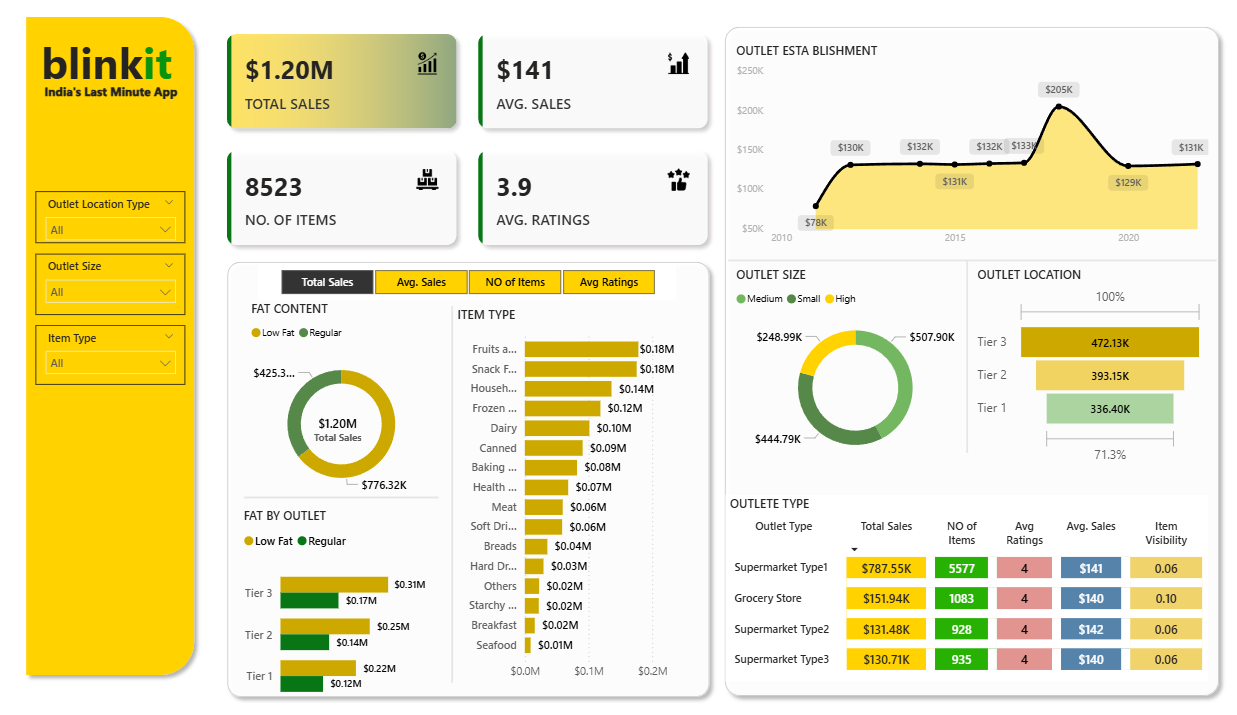

The dashboard page shown, as its layout file describes it:
{"tool":"powerbi","page":{"name":"Page 1","canvas":[1400,800],"ordinal":0},"visuals":[{"type":"shape","box":[22.8,14.7,205,749.3],"z":0},{"type":"textbox","box":[276.1,721.2,203.8,42.9],"z":1000},{"type":"textbox","box":[42.9,36.2,164.9,76.4],"z":2000},{"type":"textbox","box":[42.9,92.5,164.9,38.9],"z":3000},{"type":"cardVisual","fields":{"Data":["BlinkIT Grocery Data.Total Sales","BlinkIT Grocery Data.Avg. Sales","BlinkIT Grocery Data.NO of Items","BlinkIT Grocery Data.Avg Ratings"]},"box":[237.3,26.8,569.7,269.4],"z":4000},{"type":"shape","box":[245.3,286.9,553.6,501.3],"z":5000},{"type":"donutChart","title":"FAT CONTENT","fields":{"Y":["BlinkIT Grocery Data.Total Sales"],"Category":["BlinkIT Grocery Data.Item Fat Content"]},"box":[276.1,339.1,210.5,230.6],"z":6000},{"type":"slicer","fields":{"Values":["Metrics.Metrics"]},"box":[289.5,298.9,465.1,40.2],"z":7000},{"type":"cardVisual","fields":{"Data":["BlinkIT Grocery Data.Total Sales"]},"box":[333.8,450.4,88.5,59],"z":8000},{"type":"clusteredBarChart","title":"FAT BY OUTLET","fields":{"Y":["BlinkIT Grocery Data.Total Sales"],"Category":["BlinkIT Grocery Data.Outlet Location Type"],"Series":["BlinkIT Grocery Data.Item Fat Content"]},"box":[268.1,569.7,211.8,230.6],"z":9000},{"type":"shape","box":[273.5,538.9,215.8,38.9],"z":10000},{"type":"shape","box":[498.7,345.8,12.1,418.2],"z":11000},{"type":"barChart","title":"ITEM TYPE","fields":{"Y":["BlinkIT Grocery Data.Total Sales"],"Category":["BlinkIT Grocery Data.Item Type"]},"box":[505.4,345.8,268.1,423.6],"z":12000},{"type":"shape","box":[798.9,26.8,567,761.4],"z":13000},{"type":"lineChart","title":"OUTLET ESTA  BLISHMENT","fields":{"Y":["BlinkIT Grocery Data.Total Sales"],"Category":["BlinkIT Grocery Data.Outlet Establishment Year"]},"box":[815,52.3,534.9,234.6],"z":14000},{"type":"shape","box":[811,289.5,542.9,12.1],"z":15000},{"type":"donutChart","title":"OUTLET SIZE","fields":{"Y":["BlinkIT Grocery Data.Total Sales"],"Category":["BlinkIT Grocery Data.Outlet Size"]},"box":[815,301.6,275,225],"z":16000},{"type":"shape","box":[1071.1,296.2,12.1,213.1],"z":17000},{"type":"funnel","title":"OUTLET LOCATION","fields":{"Y":["Sum(BlinkIT Grocery Data.Sales)"],"Category":["BlinkIT Grocery Data.Outlet Location Type"]},"box":[1083.1,301.6,261.4,225.2],"z":18000},{"type":"pivotTable","title":"OUTLET TYPE","fields":{"Rows":["BlinkIT Grocery Data.Outlet Type"],"Values":["BlinkIT Grocery Data.Total Sales","BlinkIT Grocery Data.NO of Items","BlinkIT Grocery Data.Avg. Sales","BlinkIT Grocery Data.Avg Ratings","Avg(BlinkIT Grocery Data.Item Visibility)"]},"box":[817.7,542.9,526.8,226.5],"z":19000},{"type":"slicer","fields":{"Values":["BlinkIT Grocery Data.Outlet Location Type"]},"box":[36.2,256,175.6,61.7],"z":19001},{"type":"slicer","fields":{"Values":["BlinkIT Grocery Data.Outlet Size"]},"box":[36.2,341.8,175.6,61.7],"z":19002},{"type":"slicer","fields":{"Values":["BlinkIT Grocery Data.Item Type"]},"box":[37.5,423.6,175.6,61.7],"z":19003}]}

Visuals, with their boxes in screenshot pixels (x1, y1, x2, y2), scaled from the page's 1400x800 canvas onto the 1237x715 screenshot:
shape: [left=20, top=13, right=201, bottom=683]
textbox: [left=244, top=645, right=424, bottom=683]
textbox: [left=38, top=32, right=184, bottom=101]
textbox: [left=38, top=83, right=184, bottom=117]
cardVisual - BlinkIT Grocery Data.Total Sales x BlinkIT Grocery Data.Avg. Sales: [left=210, top=24, right=713, bottom=265]
shape: [left=217, top=256, right=706, bottom=704]
"FAT CONTENT" donutChart: [left=244, top=303, right=430, bottom=509]
slicer - Metrics.Metrics: [left=256, top=267, right=667, bottom=303]
cardVisual - BlinkIT Grocery Data.Total Sales: [left=295, top=403, right=373, bottom=455]
"FAT BY OUTLET" clusteredBarChart: [left=237, top=509, right=424, bottom=714]
shape: [left=242, top=482, right=432, bottom=516]
shape: [left=441, top=309, right=451, bottom=683]
"ITEM TYPE" barChart: [left=447, top=309, right=683, bottom=688]
shape: [left=706, top=24, right=1207, bottom=704]
"OUTLET ESTA  BLISHMENT" lineChart: [left=720, top=47, right=1193, bottom=256]
shape: [left=717, top=259, right=1196, bottom=270]
"OUTLET SIZE" donutChart: [left=720, top=270, right=963, bottom=471]
shape: [left=946, top=265, right=957, bottom=455]
"OUTLET LOCATION" funnel: [left=957, top=270, right=1188, bottom=471]
"OUTLET TYPE" pivotTable: [left=722, top=485, right=1188, bottom=688]
slicer - BlinkIT Grocery Data.Outlet Location Type: [left=32, top=229, right=187, bottom=284]
slicer - BlinkIT Grocery Data.Outlet Size: [left=32, top=305, right=187, bottom=361]
slicer - BlinkIT Grocery Data.Item Type: [left=33, top=379, right=188, bottom=434]
